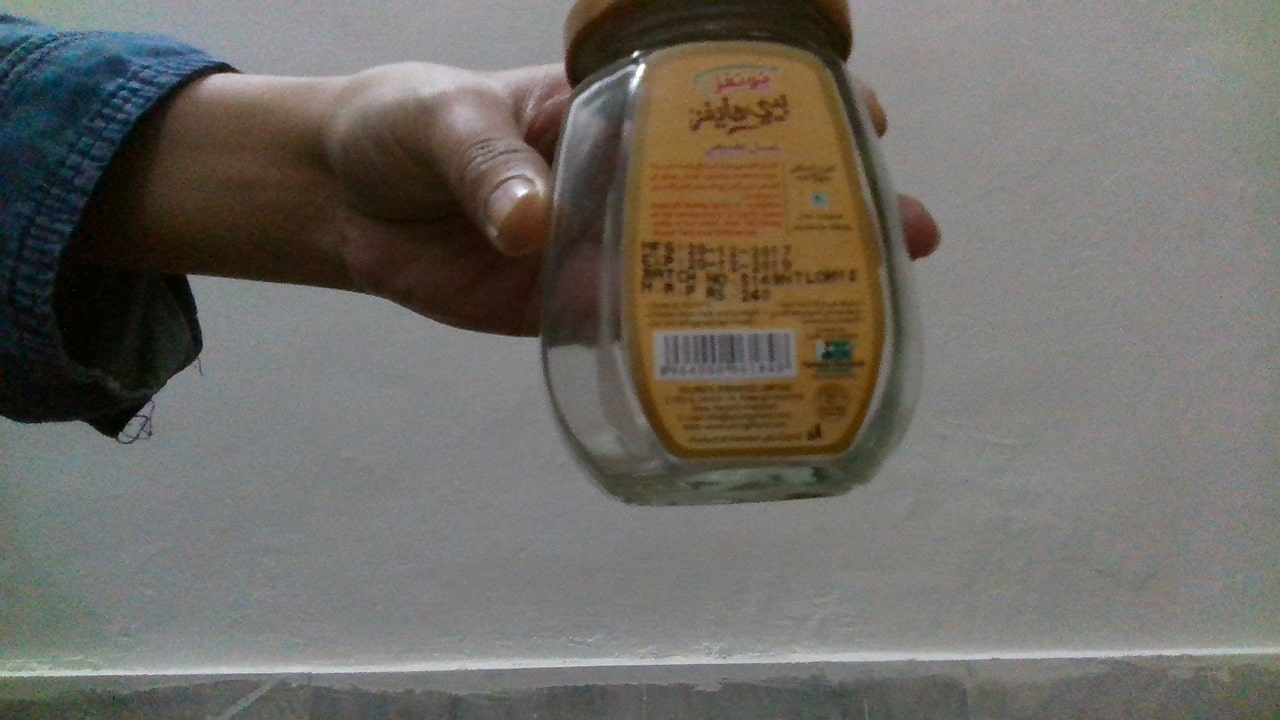Barcode: (656, 331, 794, 377)
